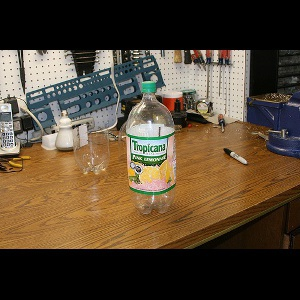emptybottle: (125, 81, 176, 214)
